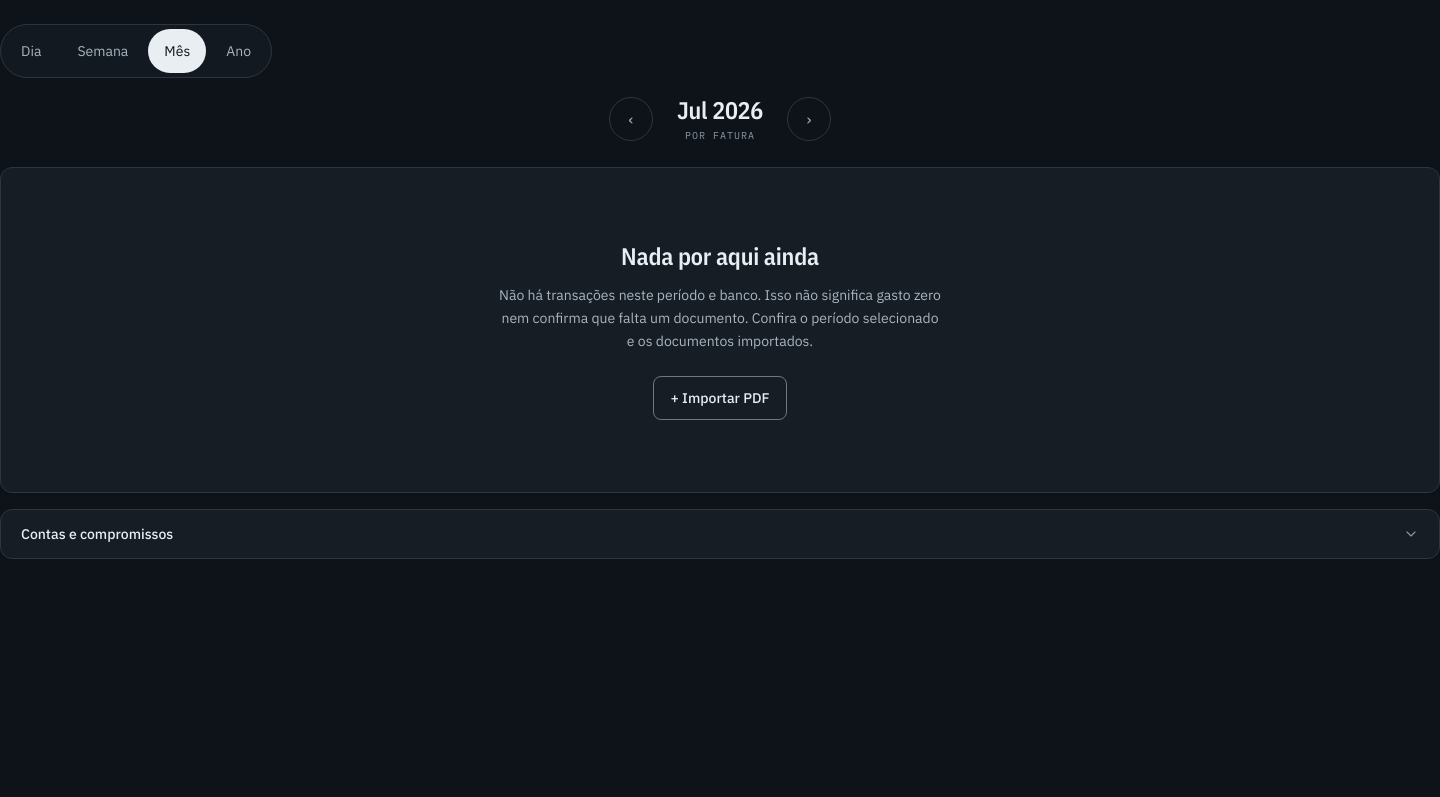
Test case: Painel — os tiles respiram como cartões separados › mantém compromissos acessíveis quando o período escolhido não tem transações
Click the heading "Contas e compromissos". click: coordinates (97, 534)
box: left=21, top=525, right=1419, bottom=543
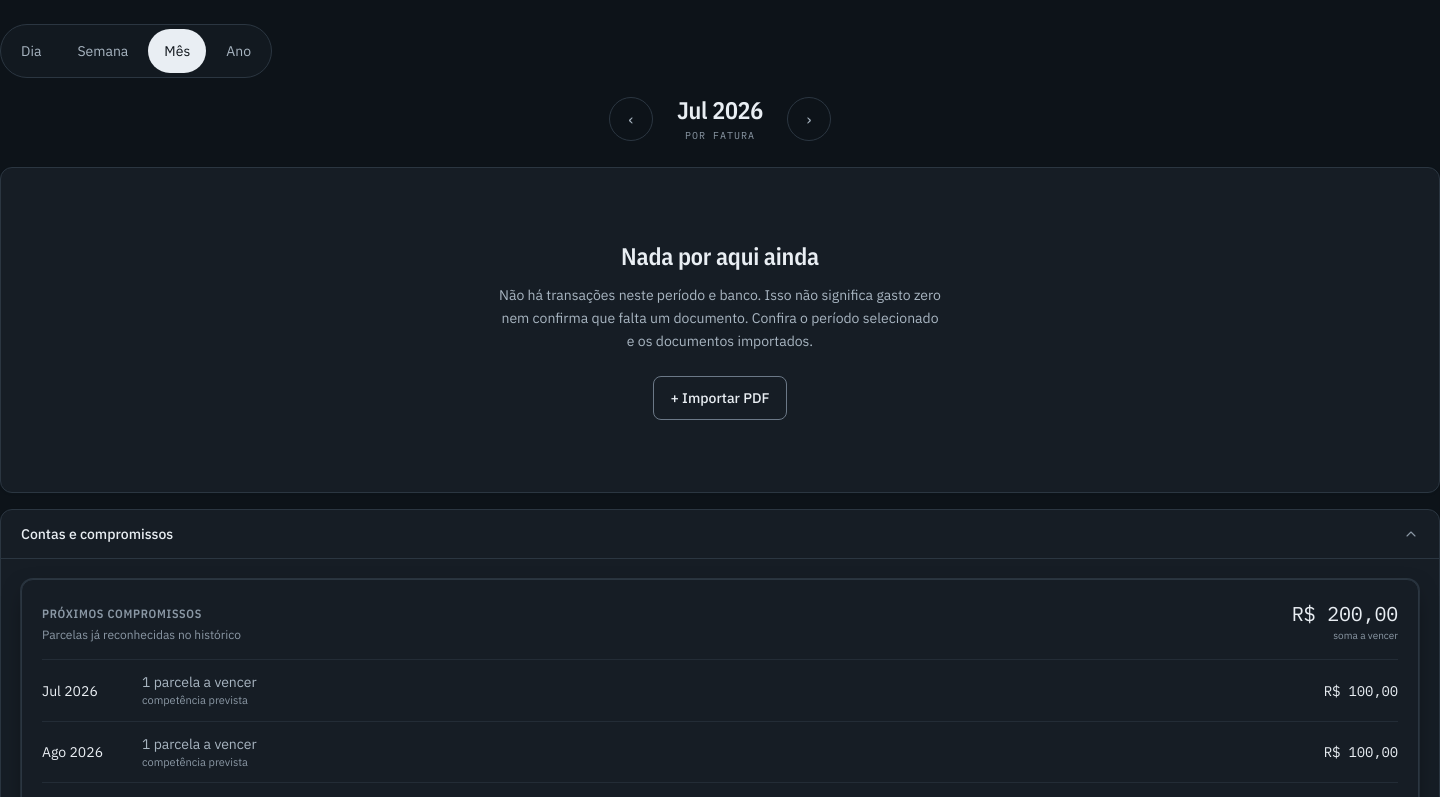
Expected: the text "Próximos compromissos" is shown, left=42, top=606, right=202, bottom=621
